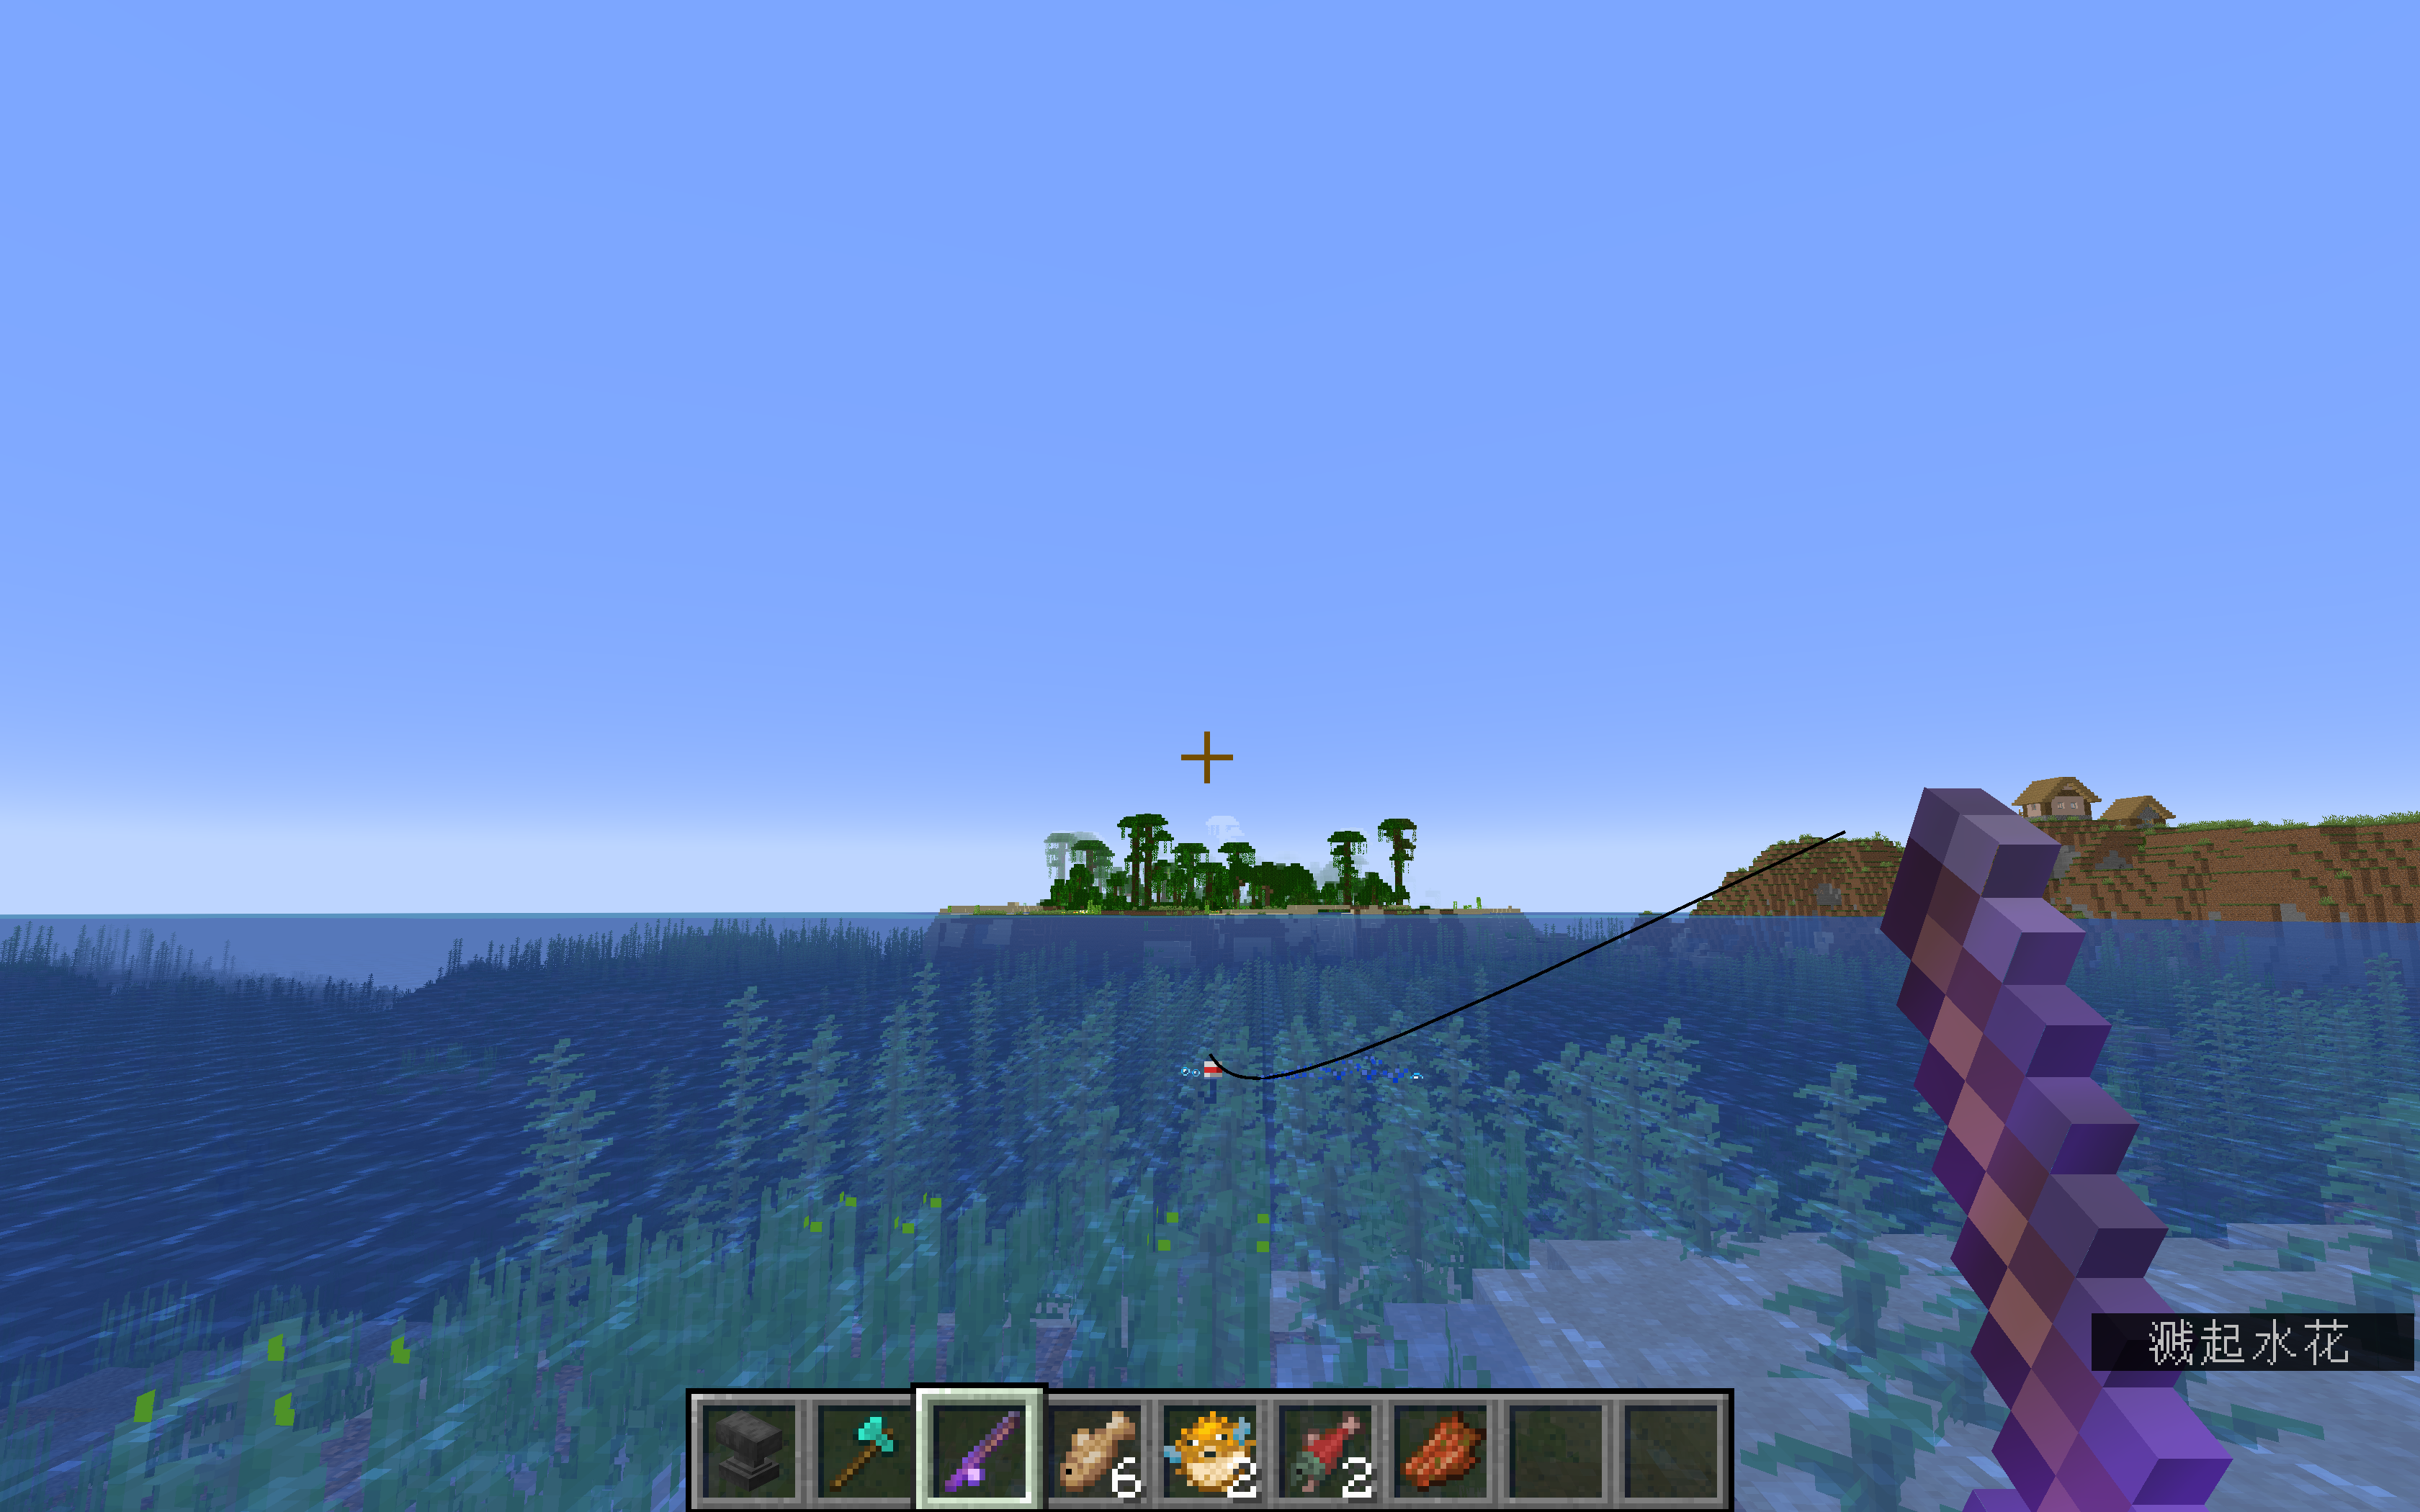inf: (2091, 1312, 2413, 1373)
